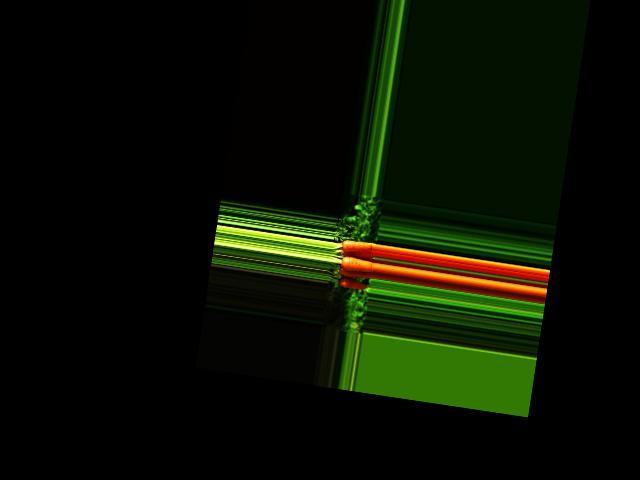carrot: (337, 274, 372, 294)
